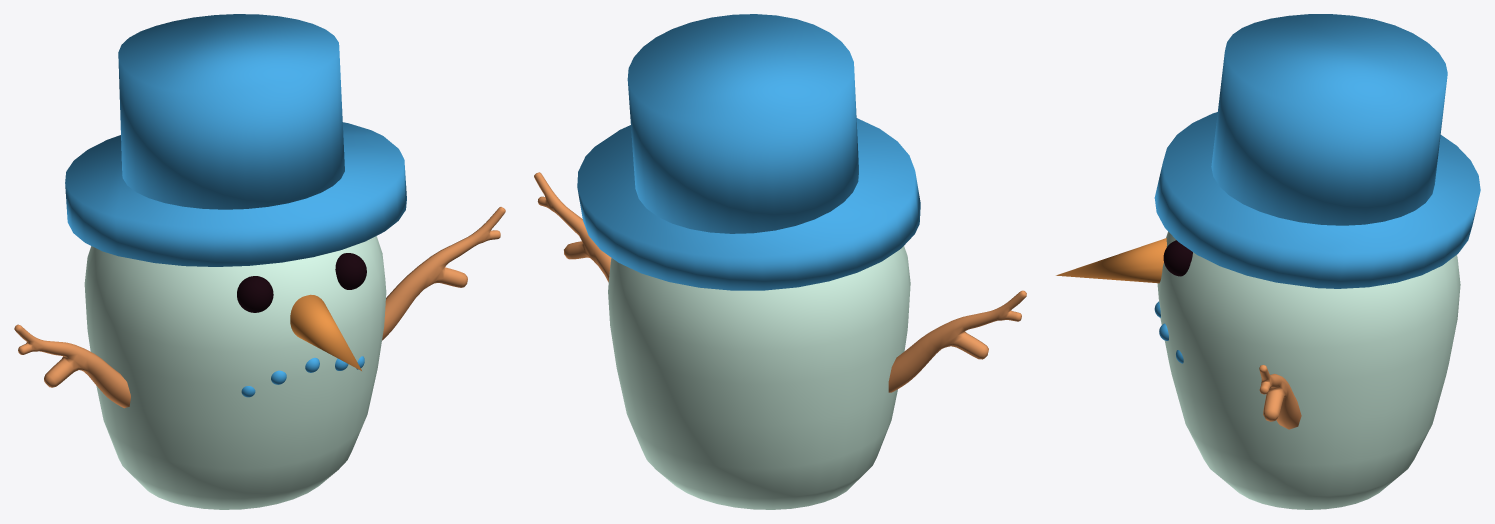
Rendered from SnowmanSadOne.fbx.
The picture shows the model from 3 angles, left to right: view 1: azimuth 30°, elevation 25°; view 2: azimuth 150°, elevation 25°; view 3: azimuth 270°, elevation 25°; orthographic projection.
Visible parts, largest first — view 1: Sphere.001, Hat Top, Hat Rim, Vert.002, Cone, Left eye, Right eye; view 2: Sphere.001, Hat Top, Hat Rim, Vert.002; view 3: Sphere.001, Hat Top, Hat Rim, Cone, Vert.002, Right eye.
Boxes of the visible parts, <box> form: Sphere.001: <box>84,236,386,509</box>; Hat Top: <box>118,14,344,209</box>; Hat Rim: <box>65,122,406,266</box>; Vert.002: <box>14,207,505,408</box>; Cone: <box>290,294,361,370</box>; Left eye: <box>237,276,273,312</box>; Right eye: <box>335,253,366,289</box>; Sphere.001: <box>608,246,910,509</box>; Hat Top: <box>627,14,858,233</box>; Hat Rim: <box>577,118,920,290</box>; Vert.002: <box>534,172,1026,392</box>; Sphere.001: <box>1157,231,1460,509</box>; Hat Top: <box>1211,14,1447,225</box>; Hat Rim: <box>1154,112,1480,288</box>; Cone: <box>1056,238,1166,283</box>; Vert.002: <box>1259,365,1301,429</box>; Right eye: <box>1163,240,1192,276</box>.
Bounding box in the file's own units: 263 × 221 × 197.
